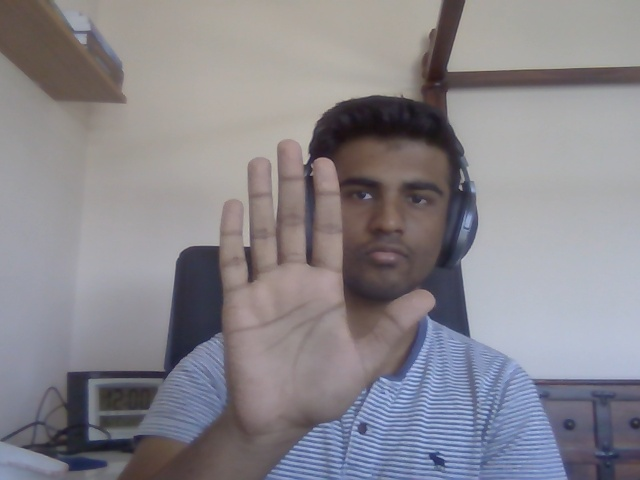Hi: (219, 140, 435, 420)
